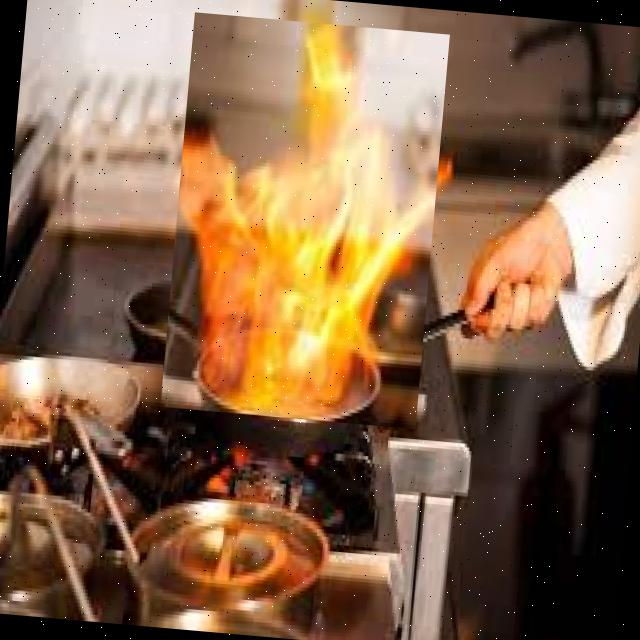fire: (160, 12, 450, 430)
